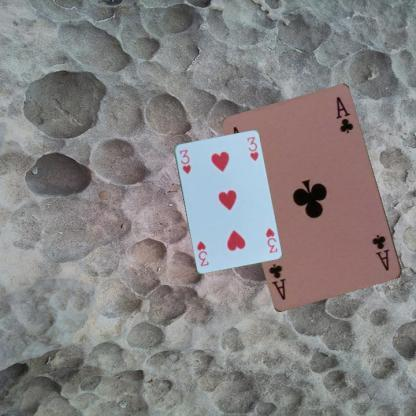3h: (262, 225, 278, 254), (177, 146, 192, 176)
Ac: (370, 232, 392, 272)
